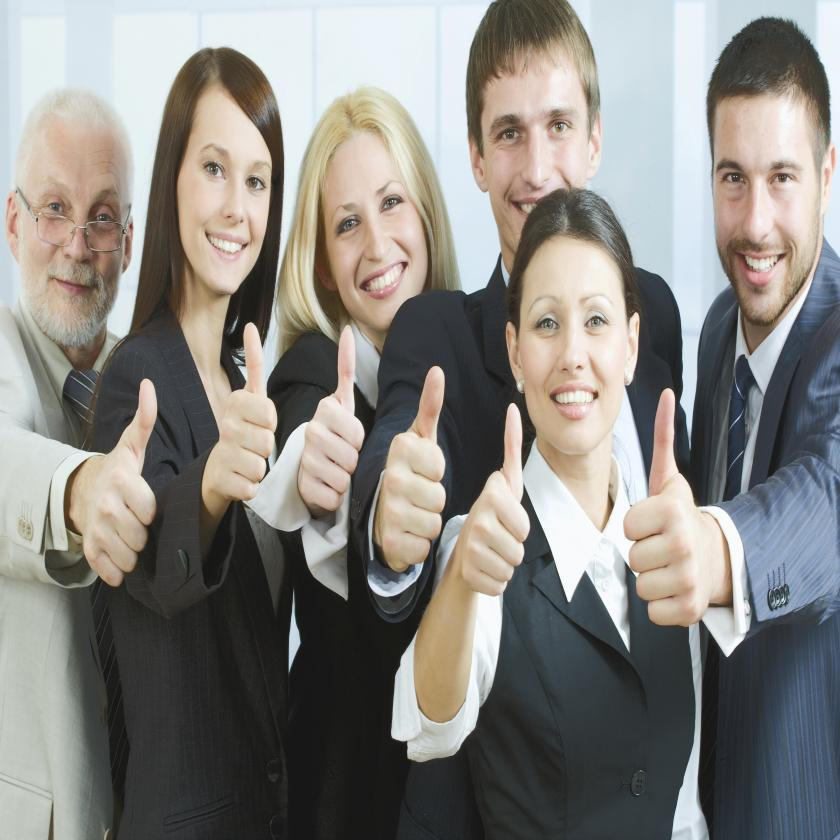Sin_casco: (287, 83, 453, 361), (698, 8, 838, 305), (506, 185, 638, 453), (11, 73, 141, 343), (459, 0, 599, 250), (150, 44, 284, 299)
